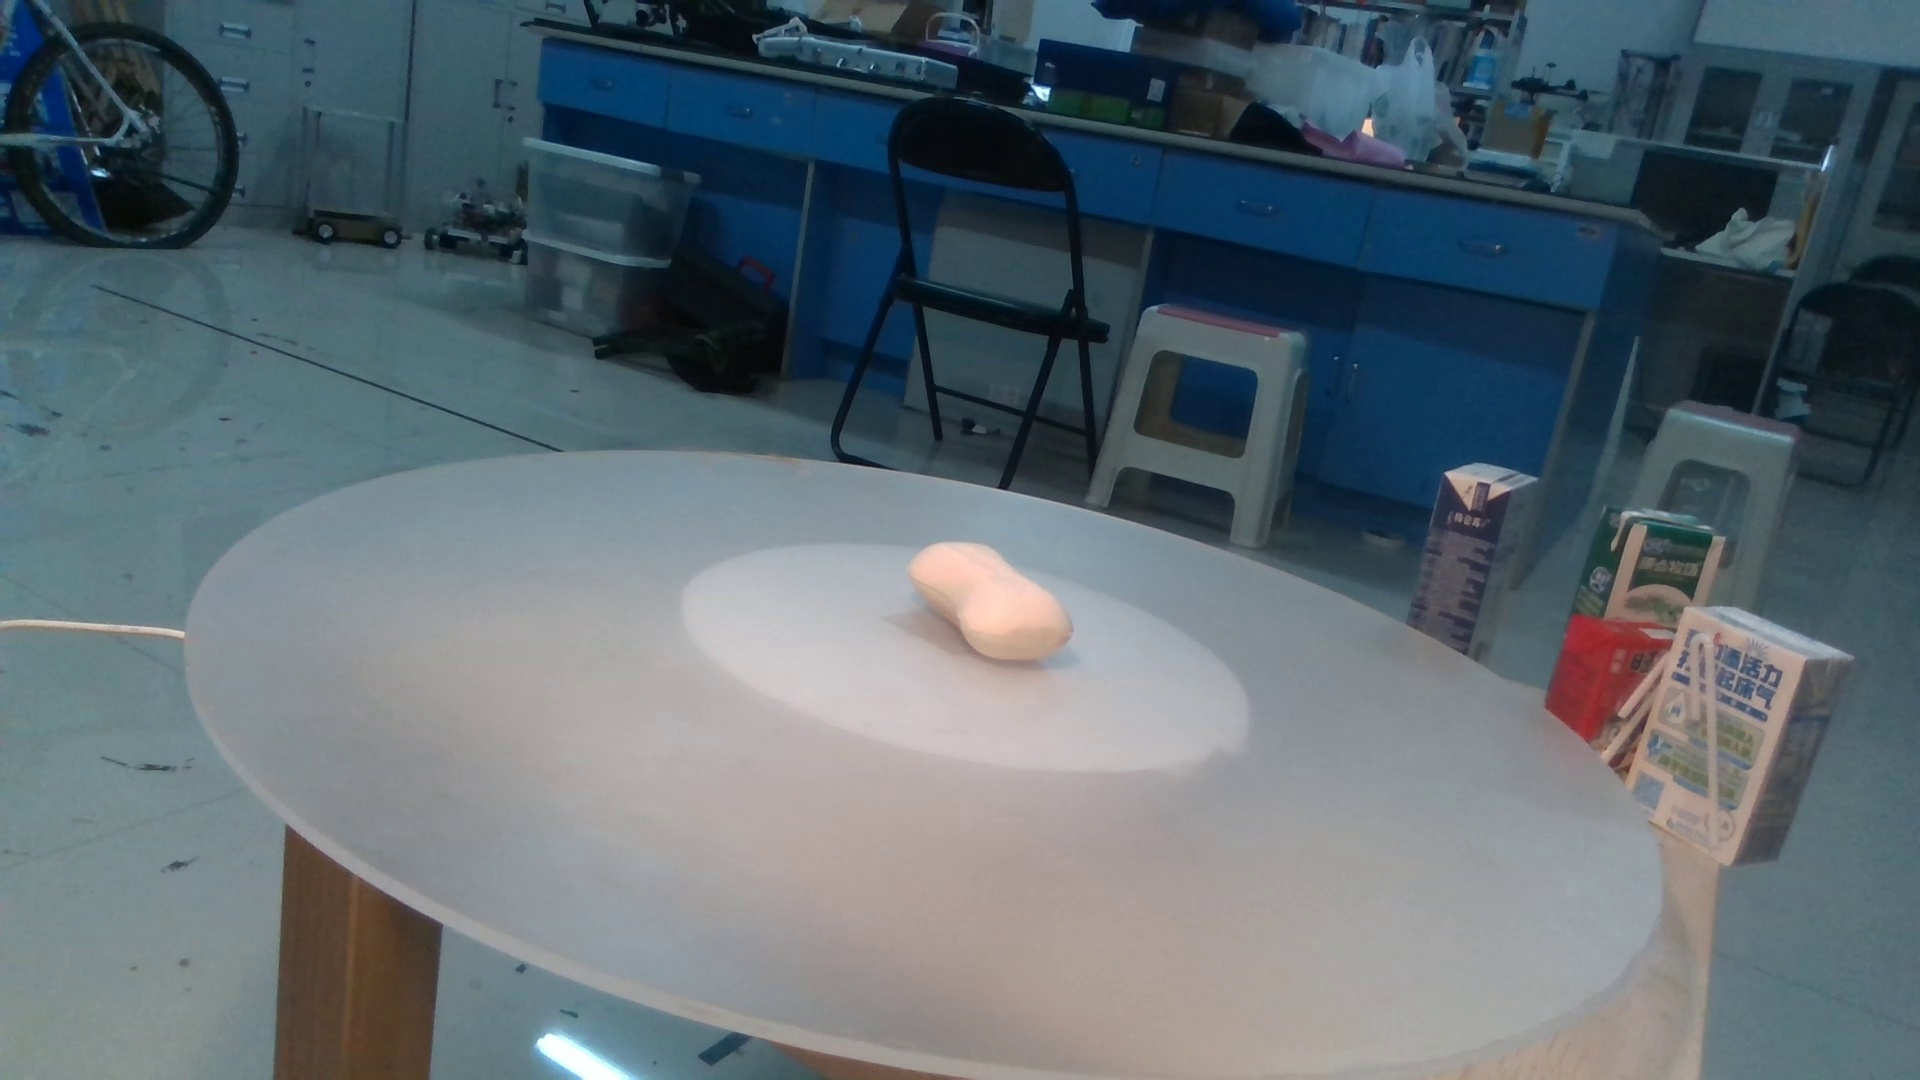CA003_1: (880, 518, 1125, 690)
